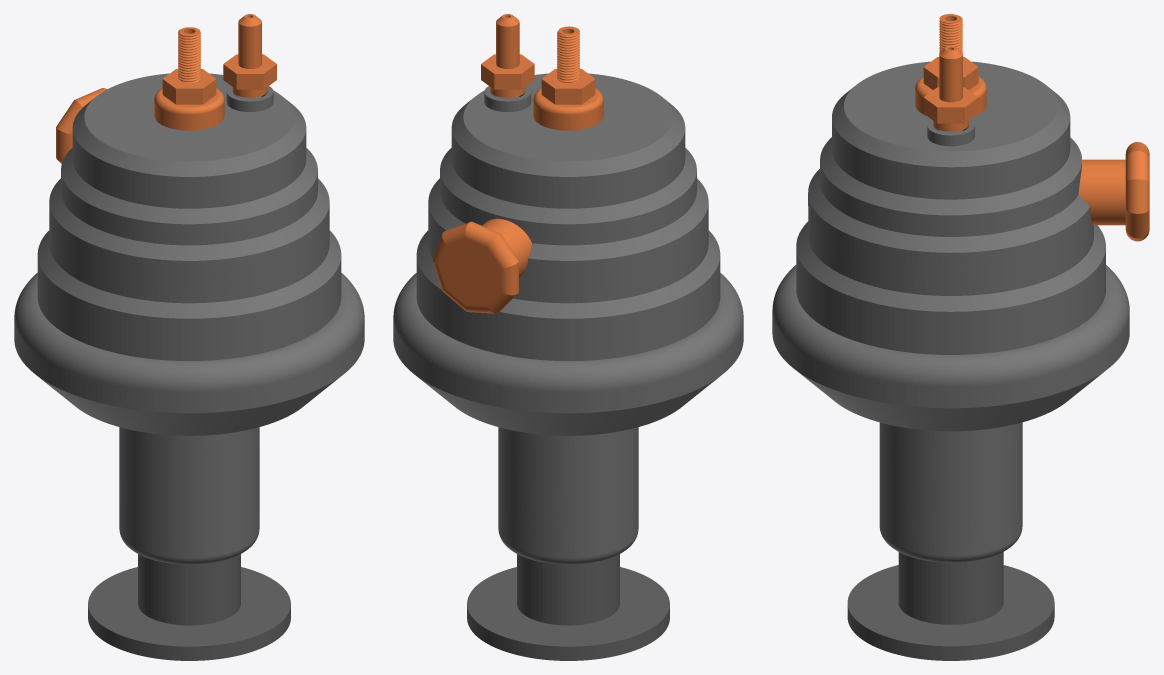
Rendered from turboBig-blowoff-valve-main.fbx.
The picture shows the model from 3 angles, left to right: view 1: azimuth 30°, elevation 25°; view 2: azimuth 150°, elevation 25°; view 3: azimuth 270°, elevation 25°; orthographic projection. The views are drawn at different scales.
Visible parts, largest first — view 1: turboBig-blowoff-valve-main; view 2: turboBig-blowoff-valve-main; view 3: turboBig-blowoff-valve-main.
Boxes of the visible parts, <box> form: turboBig-blowoff-valve-main: <box>14,14,364,660</box>; turboBig-blowoff-valve-main: <box>393,14,743,660</box>; turboBig-blowoff-valve-main: <box>772,14,1149,660</box>.
Size of the model in its own units: 4.2 by 7.76 by 4.43.
